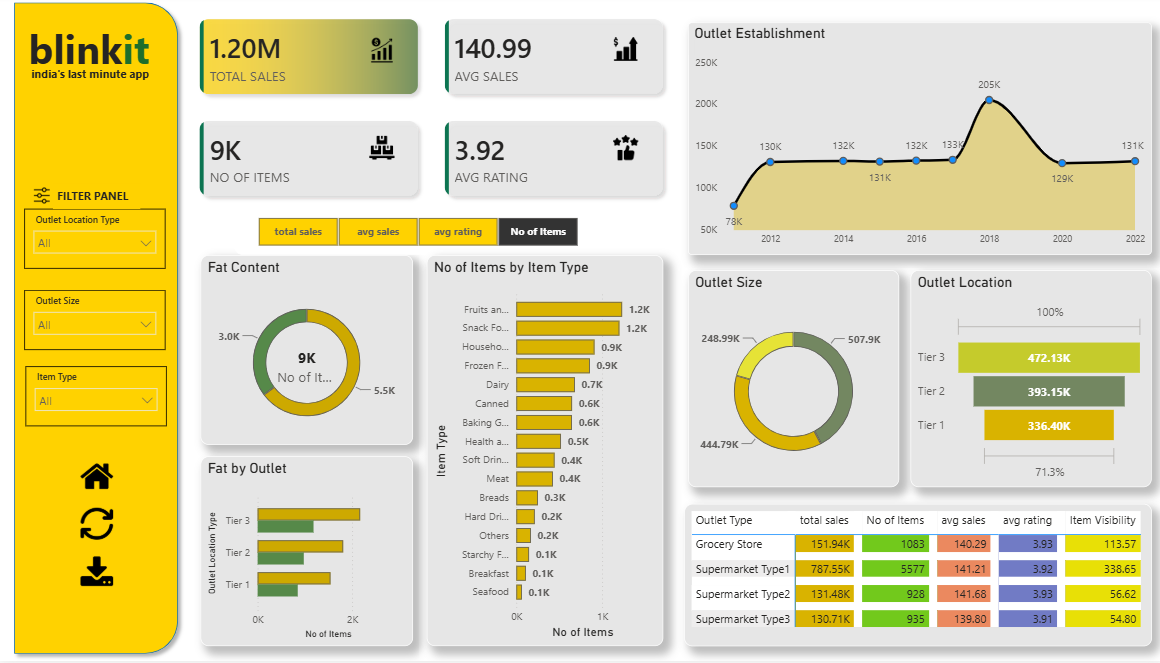

The dashboard page shown, as its layout file describes it:
{"tool":"powerbi","page":{"name":"Page 1","canvas":[1400,800],"ordinal":0},"visuals":[{"type":"shape","box":[10.5,0,214.6,800],"z":0},{"type":"textbox","box":[31.9,26.1,169.6,76.8],"z":1000},{"type":"textbox","box":[21.7,81.2,179.7,68.1],"z":2000},{"type":"cardVisual","fields":{"Data":["BlinkIT Grocery Data.total sales","BlinkIT Grocery Data.avg sales","BlinkIT Grocery Data.No of Items","BlinkIT Grocery Data.avg rating"]},"box":[213.1,0,615.4,270.2],"z":3000},{"type":"image","box":[445.8,51,30,30],"z":4000},{"type":"image","box":[738.4,49.5,30,30],"z":5000},{"type":"image","box":[445.8,168.1,30,30],"z":6000},{"type":"image","box":[738.4,168.1,30,30],"z":7000},{"type":"donutChart","title":"Fat Content","fields":{"Y":["BlinkIT Grocery Data.No of Items"],"Category":["BlinkIT Grocery Data.Item Fat Content"]},"box":[243.1,312.2,255.1,228.1],"z":8000},{"type":"slicer","fields":{"Values":["metrics.metrics"]},"box":[283.7,256.6,439.8,55.5],"z":9000},{"type":"cardVisual","fields":{"Data":["BlinkIT Grocery Data.No of Items"]},"box":[306.2,400.7,129.1,90],"z":10000},{"type":"clusteredBarChart","title":"Fat by Outlet","fields":{"Y":["BlinkIT Grocery Data.No of Items"],"Category":["BlinkIT Grocery Data.Outlet Location Type"],"Series":["BlinkIT Grocery Data.Item Fat Content"]},"box":[243.1,553.8,255.1,228.1],"z":11000},{"type":"barChart","fields":{"Y":["BlinkIT Grocery Data.No of Items"],"Category":["BlinkIT Grocery Data.Item Type"]},"box":[514.8,312.2,283.7,469.8],"z":12000},{"type":"lineChart","title":" Outlet Establishment","fields":{"Category":["BlinkIT Grocery Data.Outlet Establishment Year"],"Y":["BlinkIT Grocery Data.total sales"]},"box":[828.5,33,556.8,279.2],"z":13000},{"type":"donutChart","title":" Outlet Size","fields":{"Y":["BlinkIT Grocery Data.total sales"],"Category":["BlinkIT Grocery Data.Outlet Size"]},"box":[828.5,330.2,253.6,261.2],"z":14000},{"type":"funnel","title":"Outlet Location ","fields":{"Category":["BlinkIT Grocery Data.Outlet Location Type"],"Y":["Sum(BlinkIT Grocery Data.Sales)"]},"box":[1095.6,330.2,289.7,261.2],"z":15000},{"type":"pivotTable","fields":{"Rows":["BlinkIT Grocery Data.Outlet Type"],"Values":["BlinkIT Grocery Data.total sales","BlinkIT Grocery Data.No of Items","BlinkIT Grocery Data.avg sales","BlinkIT Grocery Data.avg rating","Sum(BlinkIT Grocery Data.Item Visibility)"]},"box":[824,610.9,561.3,171.1],"z":16000},{"type":"slicer","fields":{"Values":["BlinkIT Grocery Data.Outlet Location Type"]},"box":[31.5,256.6,169.6,72],"z":17000},{"type":"slicer","fields":{"Values":["BlinkIT Grocery Data.Outlet Size"]},"box":[31.5,354.2,169.6,72],"z":18000},{"type":"slicer","fields":{"Values":["BlinkIT Grocery Data.Item Type"]},"box":[33,445.8,169.6,72],"z":19000},{"type":"textbox","box":[66,226.6,105.1,30],"z":20000},{"type":"image","box":[99.1,667.9,39,48],"z":20001},{"type":"image","box":[99.1,610.9,39,48],"z":20002},{"type":"image","box":[99.1,553.8,39,48],"z":20003},{"type":"image","box":[39,231.1,27,19.5],"z":20004}]}

Visuals, with their boxes in screenshot pixels (x1, y1, x2, y2), scaled from the page's 1400x800 canvas onto the 1160x663 screenshot:
shape: {"left": 9, "top": 0, "right": 187, "bottom": 662}
textbox: {"left": 26, "top": 22, "right": 167, "bottom": 85}
textbox: {"left": 18, "top": 67, "right": 167, "bottom": 124}
cardVisual - BlinkIT Grocery Data.total sales x BlinkIT Grocery Data.avg sales: {"left": 177, "top": 0, "right": 686, "bottom": 224}
image: {"left": 369, "top": 42, "right": 394, "bottom": 67}
image: {"left": 612, "top": 41, "right": 637, "bottom": 66}
image: {"left": 369, "top": 139, "right": 394, "bottom": 164}
image: {"left": 612, "top": 139, "right": 637, "bottom": 164}
"Fat Content" donutChart: {"left": 201, "top": 259, "right": 413, "bottom": 448}
slicer - metrics.metrics: {"left": 235, "top": 213, "right": 599, "bottom": 259}
cardVisual - BlinkIT Grocery Data.No of Items: {"left": 254, "top": 332, "right": 361, "bottom": 407}
"Fat by Outlet" clusteredBarChart: {"left": 201, "top": 459, "right": 413, "bottom": 648}
barChart - BlinkIT Grocery Data.No of Items x BlinkIT Grocery Data.Item Type: {"left": 427, "top": 259, "right": 662, "bottom": 648}
" Outlet Establishment" lineChart: {"left": 686, "top": 27, "right": 1148, "bottom": 259}
" Outlet Size" donutChart: {"left": 686, "top": 274, "right": 897, "bottom": 490}
"Outlet Location " funnel: {"left": 908, "top": 274, "right": 1148, "bottom": 490}
pivotTable - BlinkIT Grocery Data.Outlet Type x BlinkIT Grocery Data.total sales: {"left": 683, "top": 506, "right": 1148, "bottom": 648}
slicer - BlinkIT Grocery Data.Outlet Location Type: {"left": 26, "top": 213, "right": 167, "bottom": 272}
slicer - BlinkIT Grocery Data.Outlet Size: {"left": 26, "top": 294, "right": 167, "bottom": 353}
slicer - BlinkIT Grocery Data.Item Type: {"left": 27, "top": 369, "right": 168, "bottom": 429}
textbox: {"left": 55, "top": 188, "right": 142, "bottom": 213}
image: {"left": 82, "top": 554, "right": 114, "bottom": 593}
image: {"left": 82, "top": 506, "right": 114, "bottom": 546}
image: {"left": 82, "top": 459, "right": 114, "bottom": 499}
image: {"left": 32, "top": 192, "right": 55, "bottom": 208}
